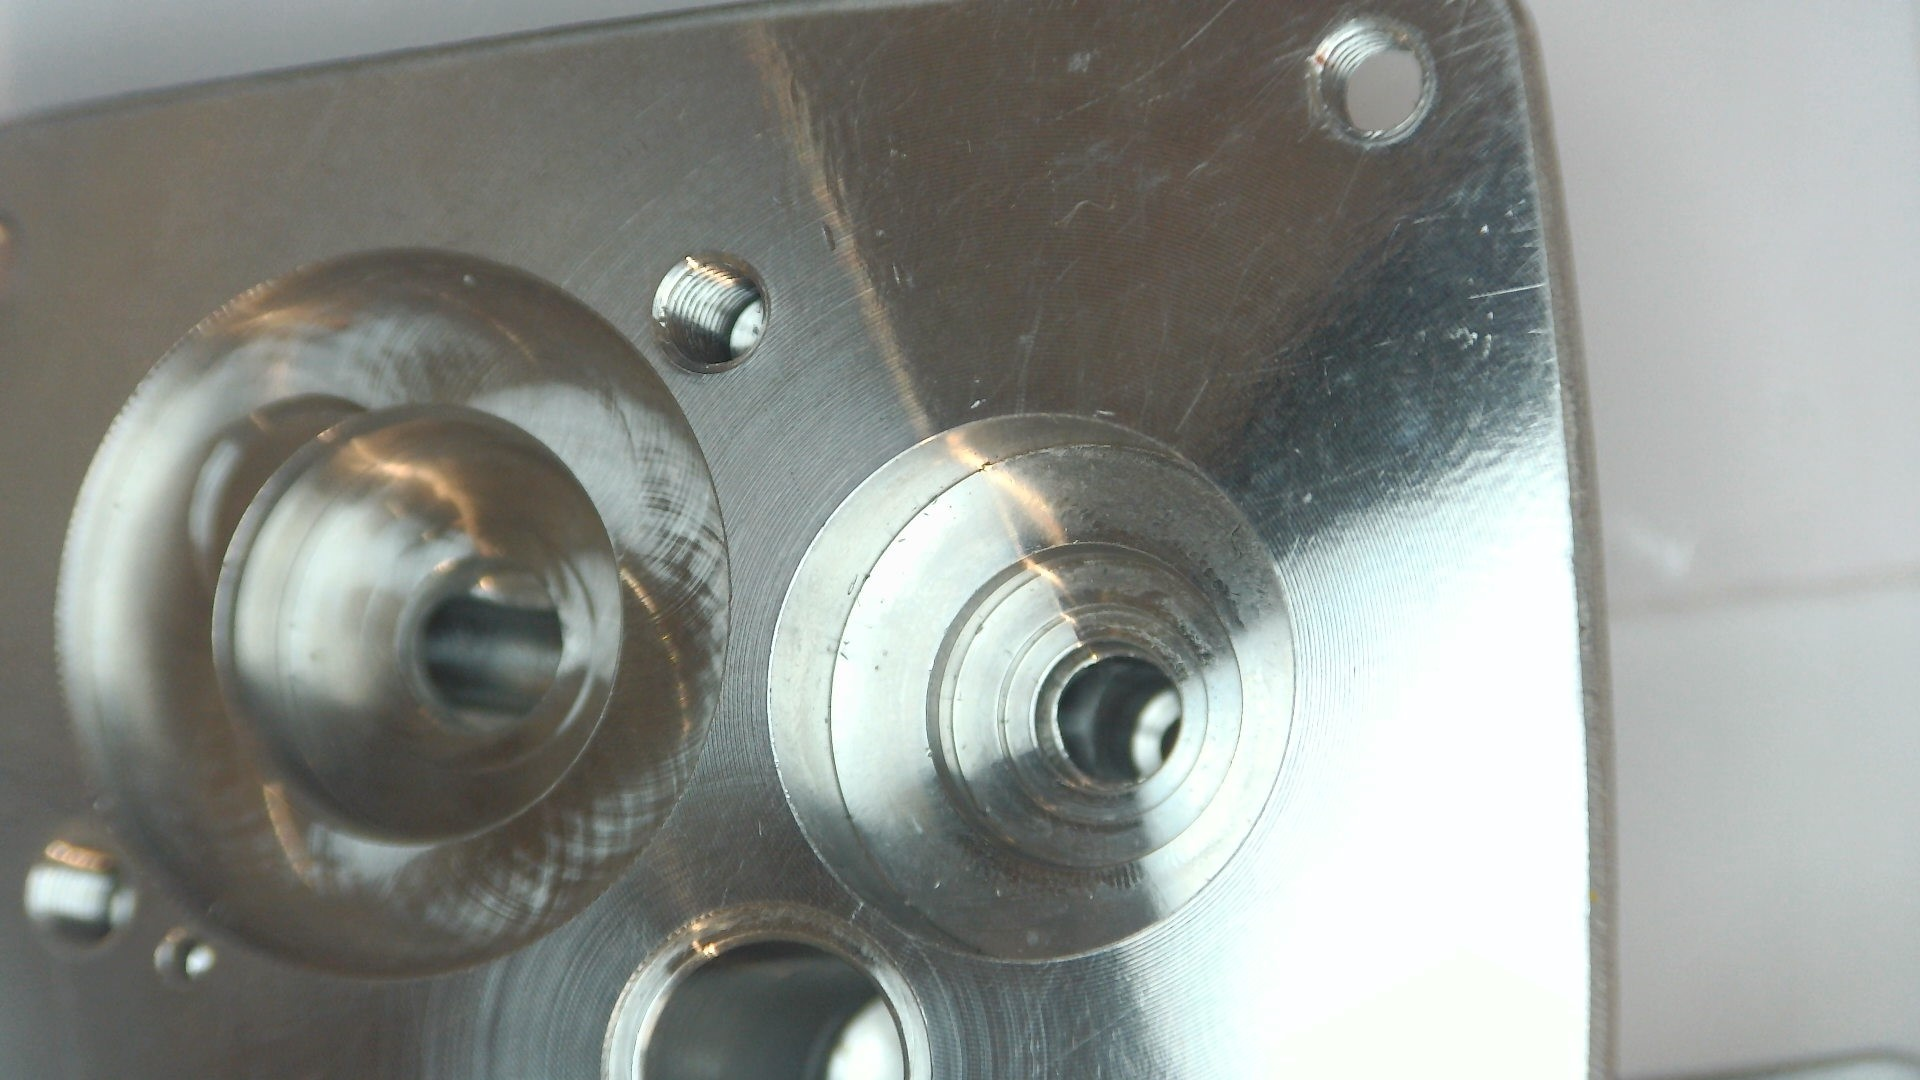thread_presence: (651, 249, 762, 376), (24, 835, 113, 943), (1317, 24, 1407, 129)
